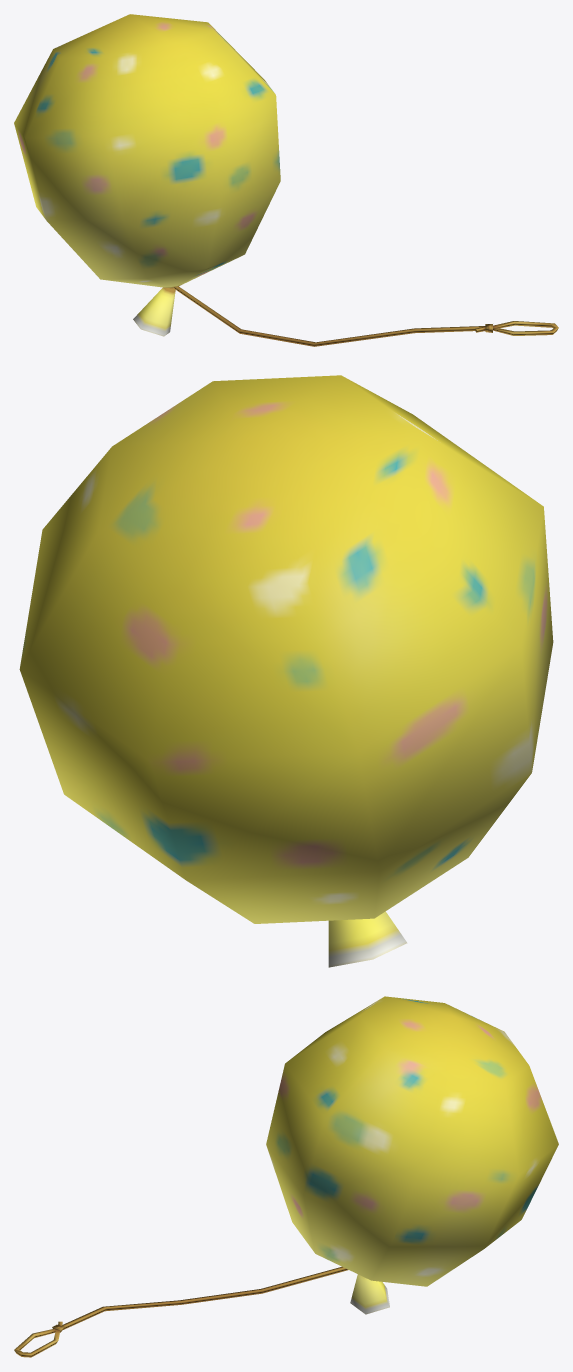
The model's file is jsf_WaterBalloon_16_d.fbx.
3 renders of one model, top to bottom at view 1: azimuth 30°, elevation 25°; view 2: azimuth 150°, elevation 25°; view 3: azimuth 270°, elevation 25°, orthographic. The views are drawn at different scales.
Parts seen in each view (by area): view 1: jsf_WaterBalloon_16_d; view 2: jsf_WaterBalloon_16_d; view 3: jsf_WaterBalloon_16_d.
Part boxes in pixels (x1=…): jsf_WaterBalloon_16_d: x1=14, y1=14, x2=558, y2=346; jsf_WaterBalloon_16_d: x1=19, y1=375, x2=553, y2=967; jsf_WaterBalloon_16_d: x1=14, y1=996, x2=558, y2=1357.
Size of the model in its own units: 15.63 by 12.55 by 20.67.
